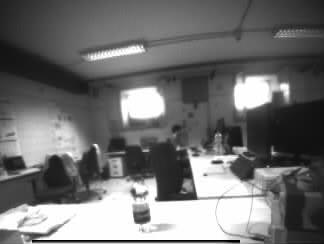Bottle: (133, 177, 152, 232), (214, 131, 222, 155)
